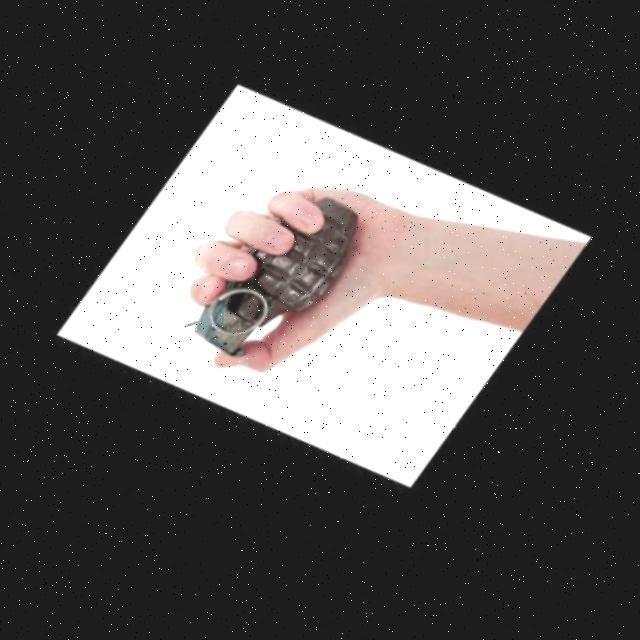grenade: (148, 184, 395, 375)
